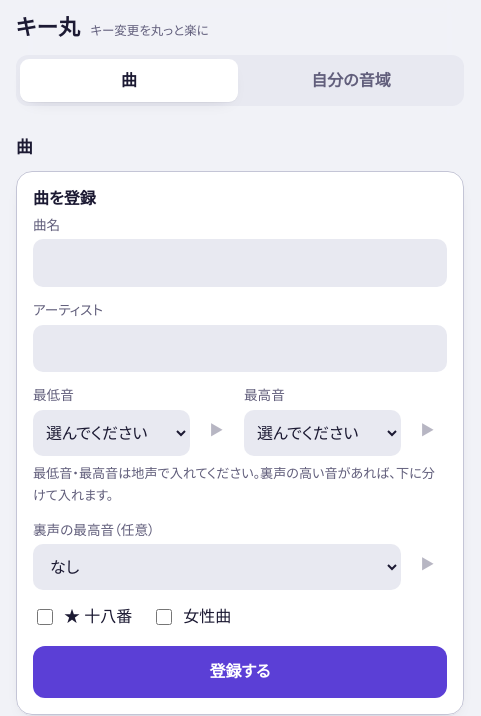
Scenario: やめる・取り消す › 曲の登録で入力に問題があれば、エラーを出して登録しない
The width and height of the screenshot is (481, 716).
Click the button "登録する" at {"x": 240, "y": 672}, box [33, 646, 447, 698]
(page scrolled)
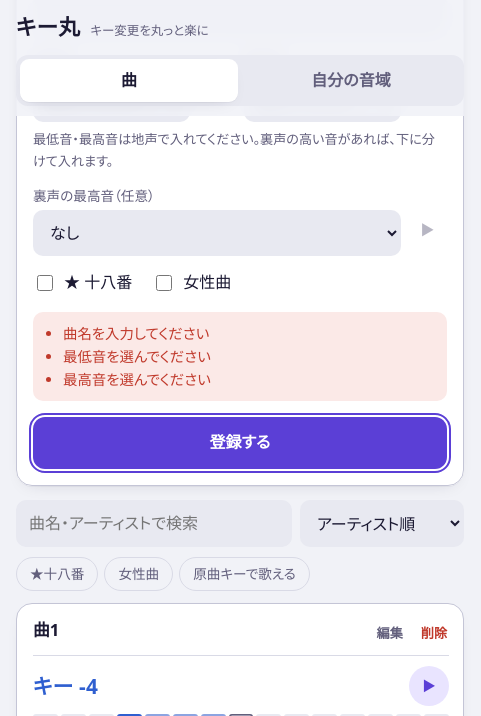
Expected: the message shows "曲名を入力してください", [63, 324, 209, 343]
Expected: the message shows "最低音を選んでください", [63, 347, 211, 366]
